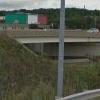Bridge: (7, 19, 100, 56)
